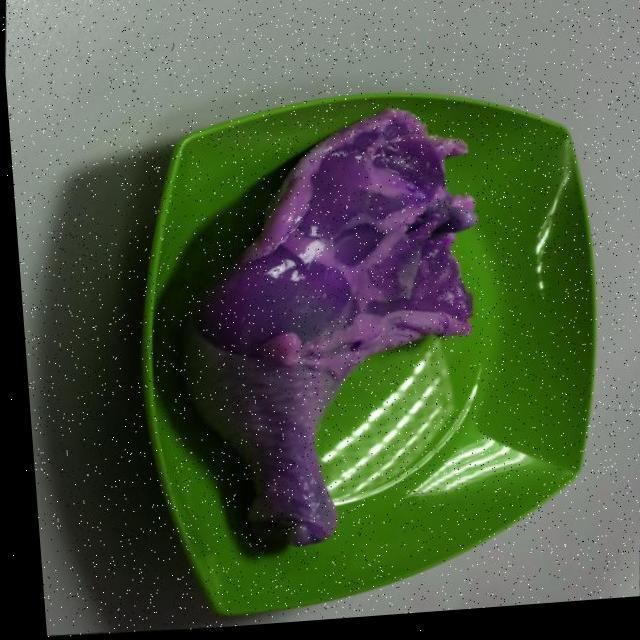quater: (196, 120, 474, 553)
